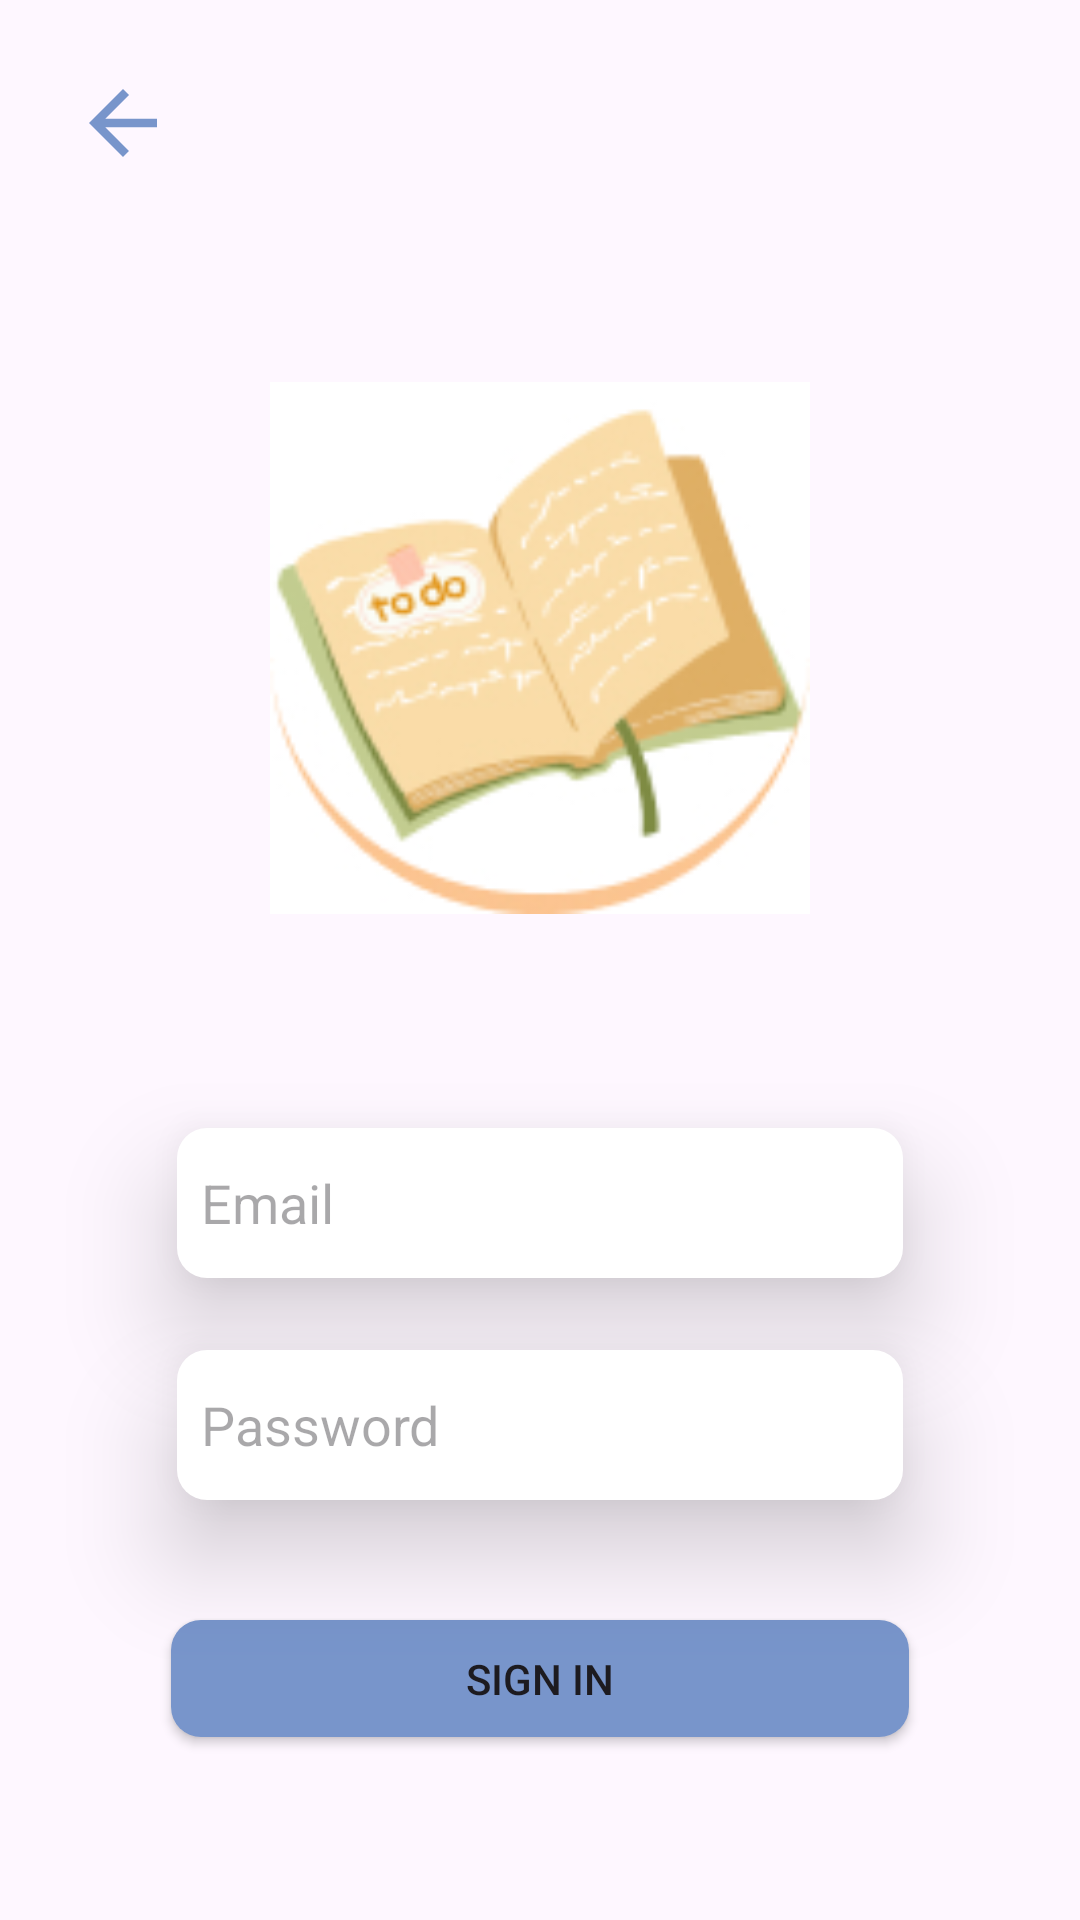

Icon bounding boxes for this 1080×1920 phone screenshot, format box(x1, y1, x2, y2):
arrow back: box(89, 89, 157, 157)
